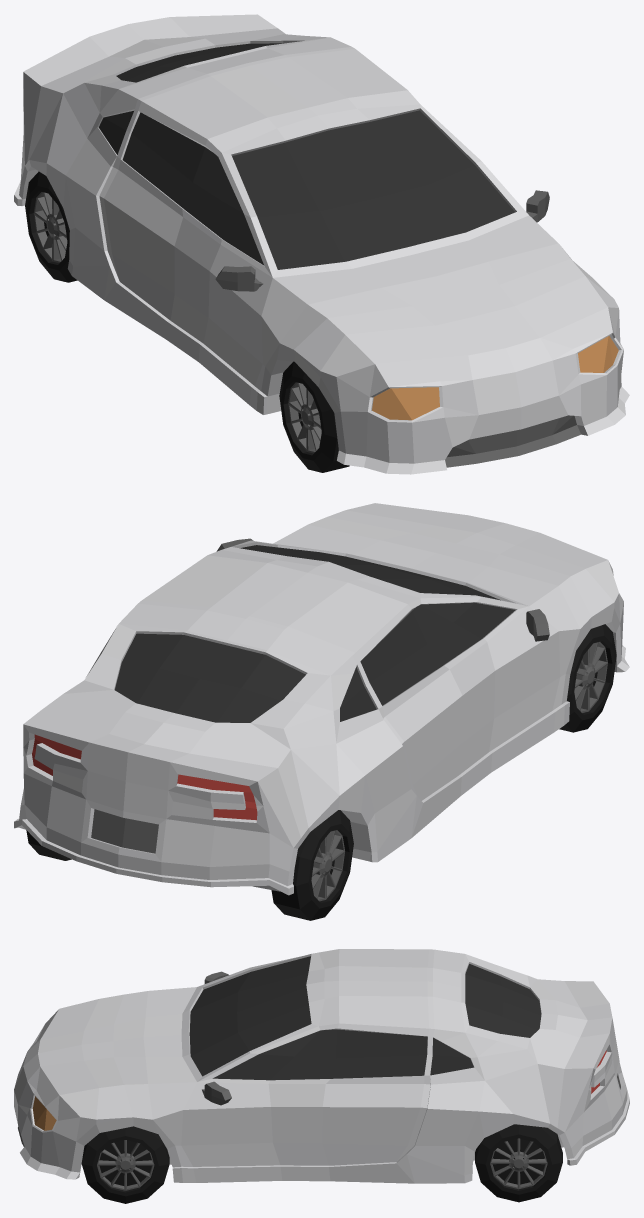
The picture shows the model from 3 angles, top to bottom: view 1: azimuth 30°, elevation 25°; view 2: azimuth 150°, elevation 25°; view 3: azimuth 270°, elevation 25°; orthographic projection. The views are drawn at different scales.
Parts seen in each view (by area): view 1: SportsCar2_Cube.006, SportsCar2_FrontRightWheel_Cylinder.018, SportsCar2_BackWheels_Cylinder.002; view 2: SportsCar2_Cube.006, SportsCar2_BackWheels_Cylinder.002, SportsCar2_FrontRightWheel_Cylinder.018; view 3: SportsCar2_Cube.006, SportsCar2_BackWheels_Cylinder.002, SportsCar2_FrontLeftWheel_Cylinder.017.
Part boxes in pixels (box(x1,y1,x2,y2)): SportsCar2_Cube.006: box(14, 14, 629, 474); SportsCar2_FrontRightWheel_Cylinder.018: box(279, 361, 349, 472); SportsCar2_BackWheels_Cylinder.002: box(25, 171, 77, 282); SportsCar2_Cube.006: box(14, 503, 629, 895); SportsCar2_BackWheels_Cylinder.002: box(26, 810, 353, 920); SportsCar2_FrontRightWheel_Cylinder.018: box(559, 624, 616, 732); SportsCar2_Cube.006: box(14, 949, 629, 1183); SportsCar2_BackWheels_Cylinder.002: box(475, 1124, 562, 1202); SportsCar2_FrontLeftWheel_Cylinder.017: box(81, 1126, 169, 1203).
Size of the model in its own units: 1.87 by 1.2 by 3.93.
